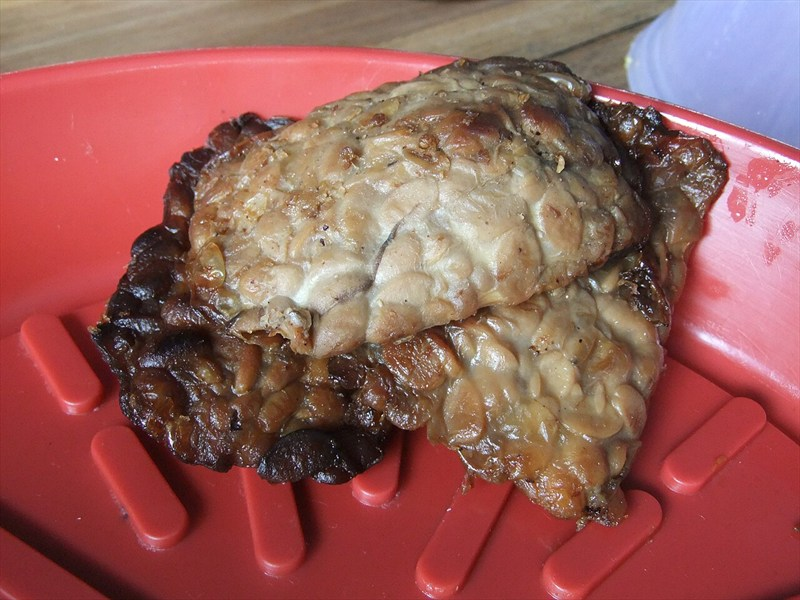Tempe Goreng: (112, 79, 773, 486)
